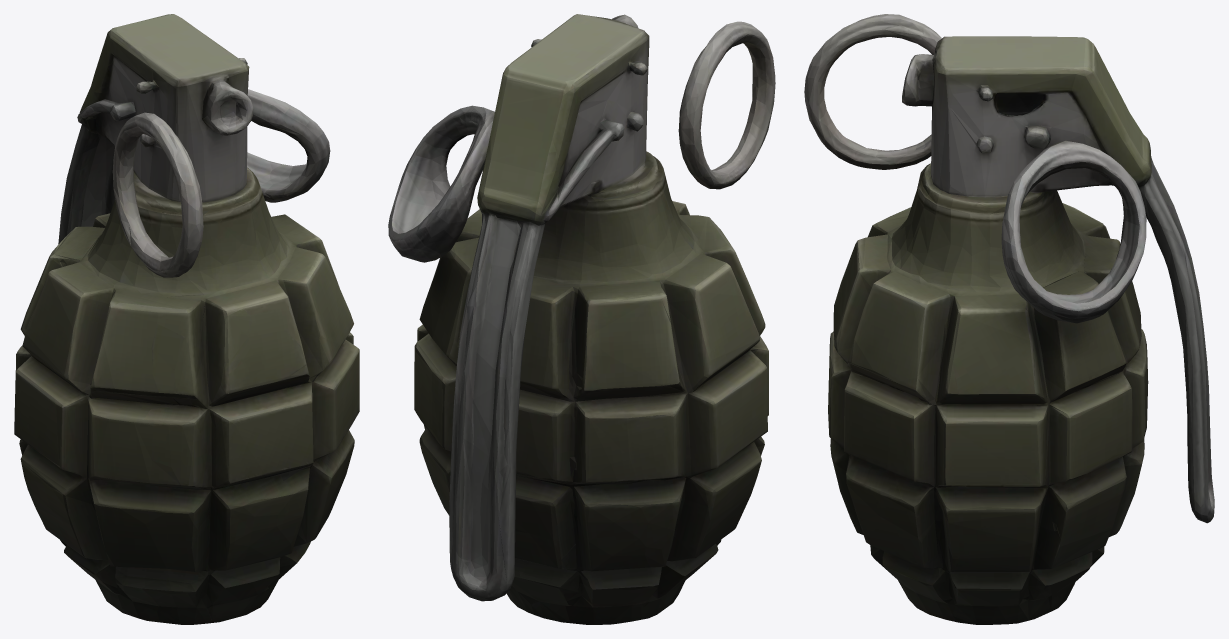
The model's file is black_grenade.glb.
3 views of the same model, side by side, from view 1: azimuth 30°, elevation 25°; view 2: azimuth 150°, elevation 25°; view 3: azimuth 270°, elevation 25° (orthographic). The views are drawn at different scales.
Parts seen in each view (by area): view 1: geometry_0; view 2: geometry_0; view 3: geometry_0.
Part boxes in pixels (x1,y1,x2,y2): geometry_0: (14,14,359,624); geometry_0: (388,14,775,624); geometry_0: (804,14,1214,624).
Size of the model in its own units: 0.6097 by 0.9995 by 0.6891.
Materials: 1 (1 with a texture image).
